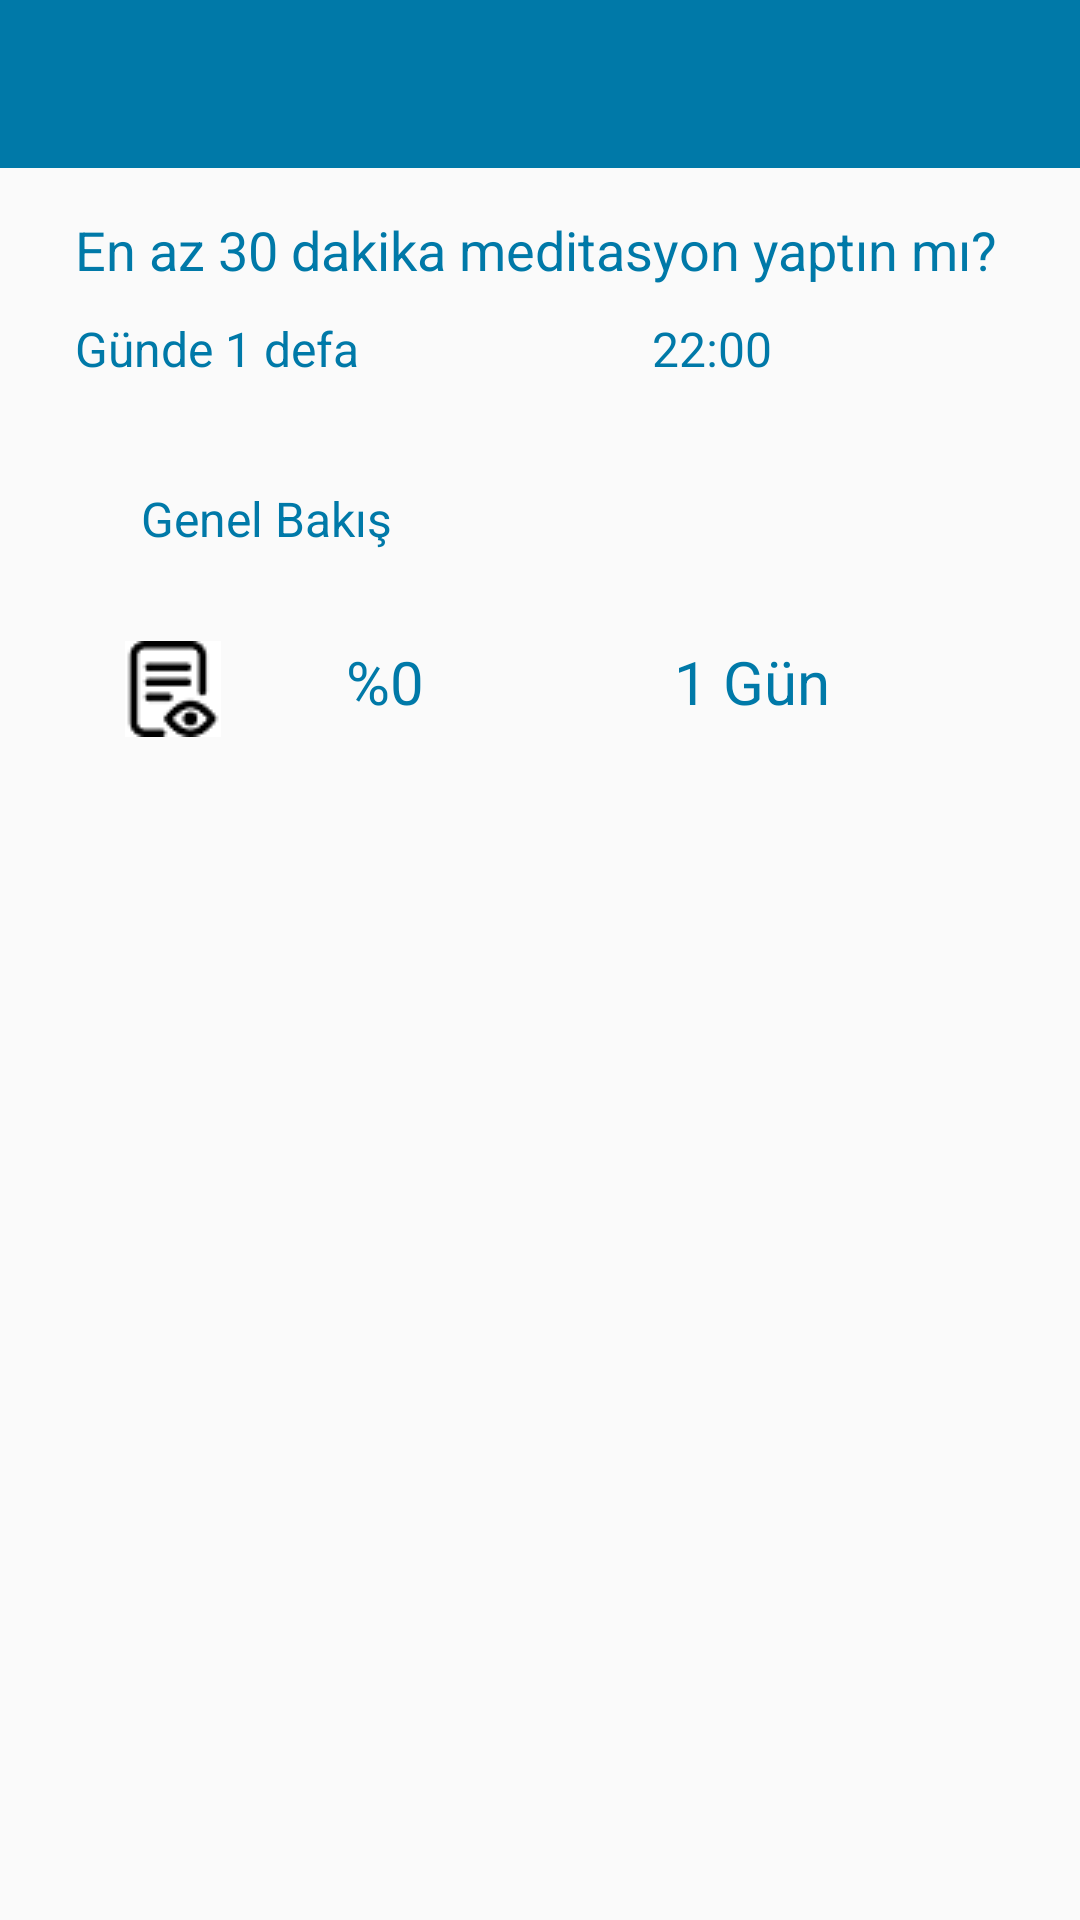

Where icons sit on this 1080px×1920px app screen, as [left=x1, top=y1, right=x2, bottom=y2]:
overview: [left=128, top=641, right=218, bottom=737]
